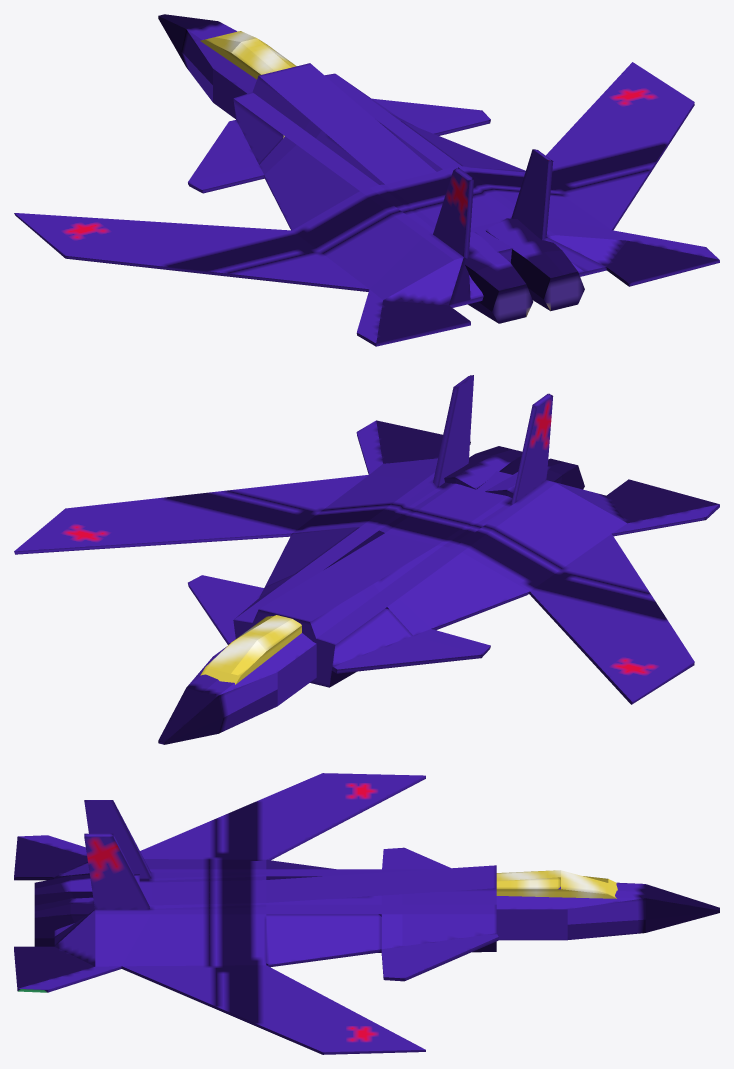
3 views of the same model, one above another, from view 1: azimuth 30°, elevation 25°; view 2: azimuth 150°, elevation 25°; view 3: azimuth 270°, elevation 25° (orthographic). The views are drawn at different scales.
Visible parts, largest first — view 1: cuboid, cuboid_3, cuboid_4, cuboid_2, cuboid_1; view 2: cuboid, cuboid_4, cuboid_1, cuboid_3, cuboid_2; view 3: cuboid, cuboid_4, cuboid_1, cuboid_3, cuboid_2.
Boxes of the visible parts, bbox=[...] form: cuboid: bbox=[14, 62, 719, 346]; cuboid_3: bbox=[485, 218, 584, 311]; cuboid_4: bbox=[158, 14, 284, 138]; cuboid_2: bbox=[463, 232, 533, 323]; cuboid_1: bbox=[200, 31, 296, 79]; cuboid: bbox=[14, 375, 719, 704]; cuboid_4: bbox=[158, 633, 332, 744]; cuboid_1: bbox=[200, 615, 301, 684]; cuboid_3: bbox=[438, 446, 522, 489]; cuboid_2: bbox=[485, 458, 584, 498]; cuboid: bbox=[14, 773, 498, 1054]; cuboid_4: bbox=[496, 882, 719, 940]; cuboid_1: bbox=[496, 870, 617, 898]; cuboid_3: bbox=[34, 897, 94, 946]; cuboid_2: bbox=[34, 874, 139, 905].
Bounding box in the file's own units: 610 × 117 × 652.
